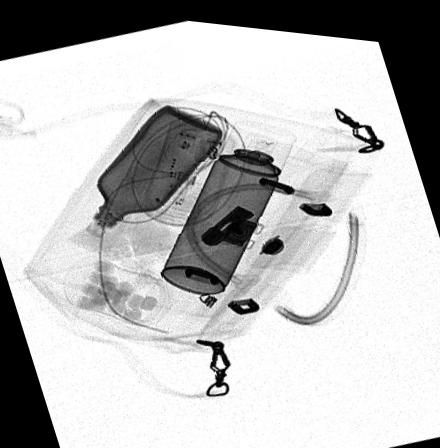Sprayer: (160, 113, 295, 289)
